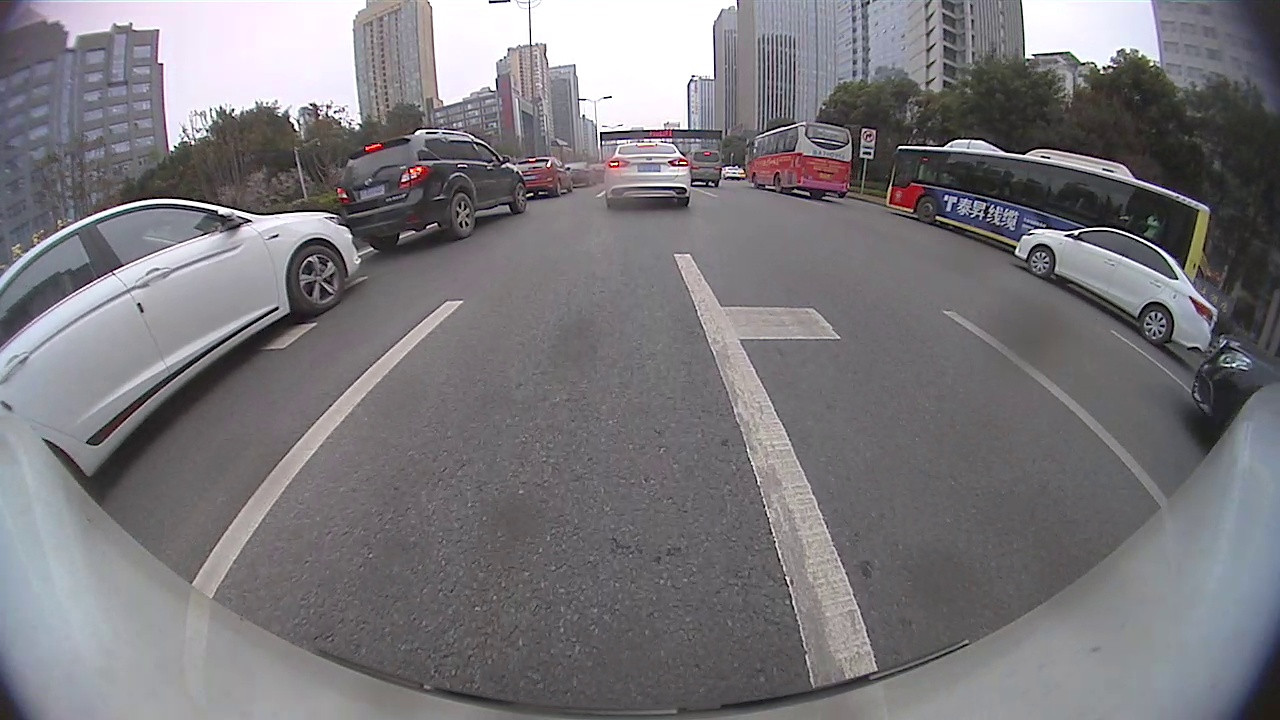bus: (884, 138, 1212, 286), (744, 116, 854, 201)
car: (0, 198, 361, 484), (1011, 224, 1219, 353), (334, 129, 529, 251), (1191, 331, 1279, 423), (601, 142, 693, 208), (518, 155, 576, 197), (692, 150, 724, 189)
front: (288, 245, 346, 314), (1029, 245, 1054, 280), (915, 194, 940, 222), (513, 180, 531, 214)
rear: (446, 194, 477, 237), (1139, 305, 1172, 345)
